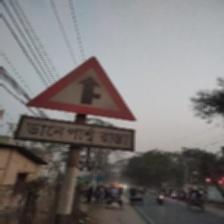Side-road-right: (20, 56, 139, 153)
